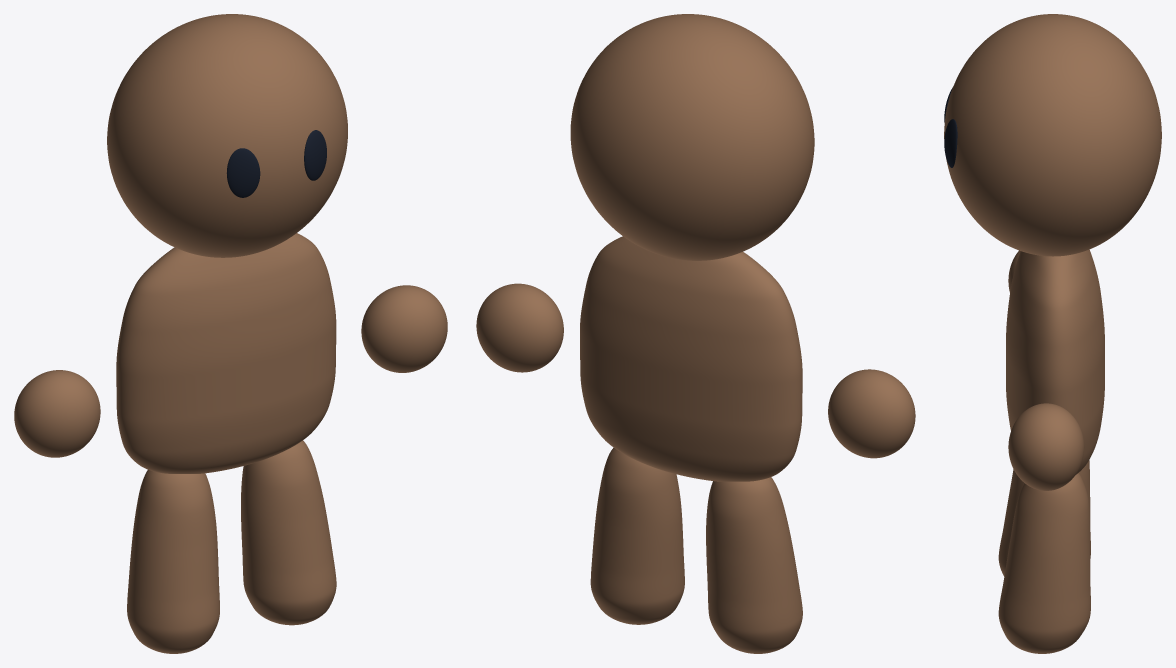
The model's file is Masculine-skin2.glb.
3 renders of one model, left to right at view 1: azimuth 30°, elevation 25°; view 2: azimuth 150°, elevation 25°; view 3: azimuth 270°, elevation 25°, orthographic. The views are drawn at different scales.
Parts seen in each view (by area): view 1: Round head, Rounded torso, Left leg blob, Right leg blob, Left round hand, Right round hand, Left optional eye, Right optional eye; view 2: Round head, Rounded torso, Left leg blob, Right leg blob, Left round hand, Right round hand; view 3: Round head, Rounded torso, Right leg blob, Right round hand, Left leg blob, Right optional eye.
Boxes of the visible parts, x1,y1,x2,y2 form: Round head: [107, 14, 347, 257]; Rounded torso: [116, 233, 336, 473]; Left leg blob: [127, 469, 219, 653]; Right leg blob: [241, 440, 336, 625]; Left round hand: [14, 370, 100, 457]; Right round hand: [361, 285, 447, 372]; Left optional eye: [226, 148, 260, 197]; Right optional eye: [304, 130, 326, 180]; Round head: [570, 14, 814, 260]; Rounded torso: [580, 236, 802, 481]; Left leg blob: [706, 477, 802, 653]; Right leg blob: [590, 447, 684, 624]; Left round hand: [828, 369, 915, 458]; Right round hand: [476, 283, 563, 372]; Round head: [944, 14, 1161, 256]; Rounded torso: [1006, 249, 1104, 474]; Right leg blob: [998, 473, 1090, 653]; Right round hand: [1008, 403, 1084, 490]; Left leg blob: [998, 460, 1090, 576]; Right optional eye: [944, 119, 957, 167].
Bounding box in the file's own units: 1.94 × 2.65 × 0.88.
